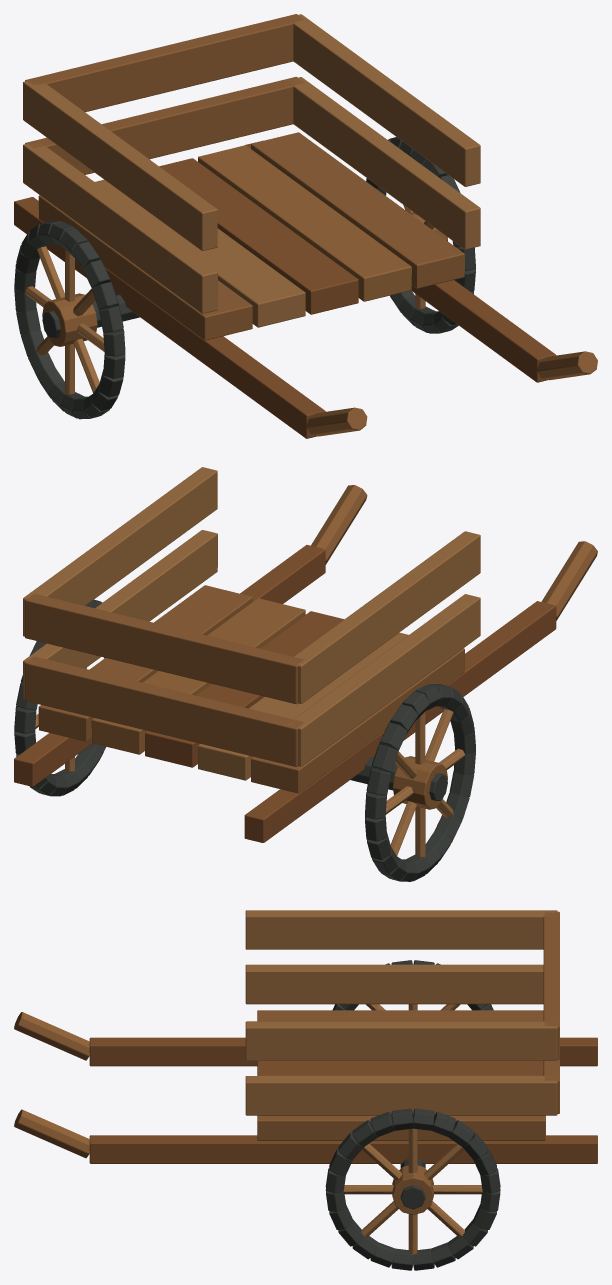
Rendered from wooden_handcart.glb.
3 renders of one model, top to bottom at view 1: azimuth 30°, elevation 25°; view 2: azimuth 150°, elevation 25°; view 3: azimuth 270°, elevation 25°, orthographic. The views are drawn at different scales.
Visible parts, largest first — view 1: wooden_handcart; view 2: wooden_handcart; view 3: wooden_handcart.
Part boxes in pixels (x1,y1,x2,y2): wooden_handcart: (14,14,597,438); wooden_handcart: (14,467,597,881); wooden_handcart: (14,910,597,1270).
Size of the model in its own units: 1.7 by 1.08 by 2.53.
